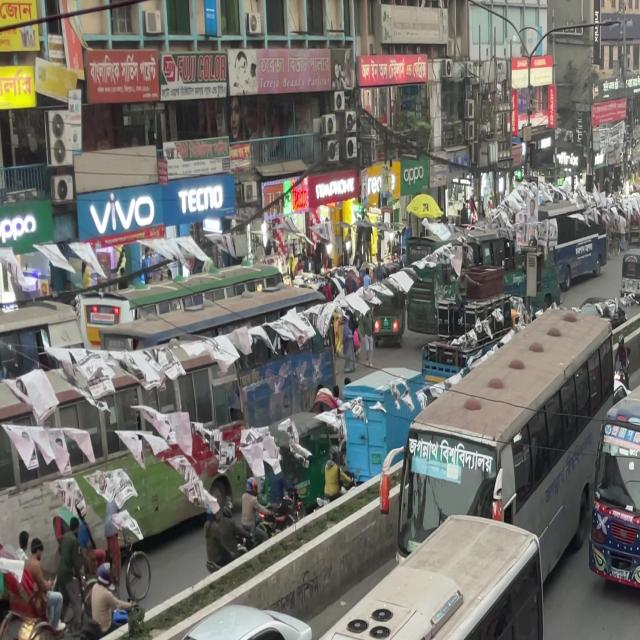bus: (191, 454, 549, 640), (563, 328, 640, 599)
